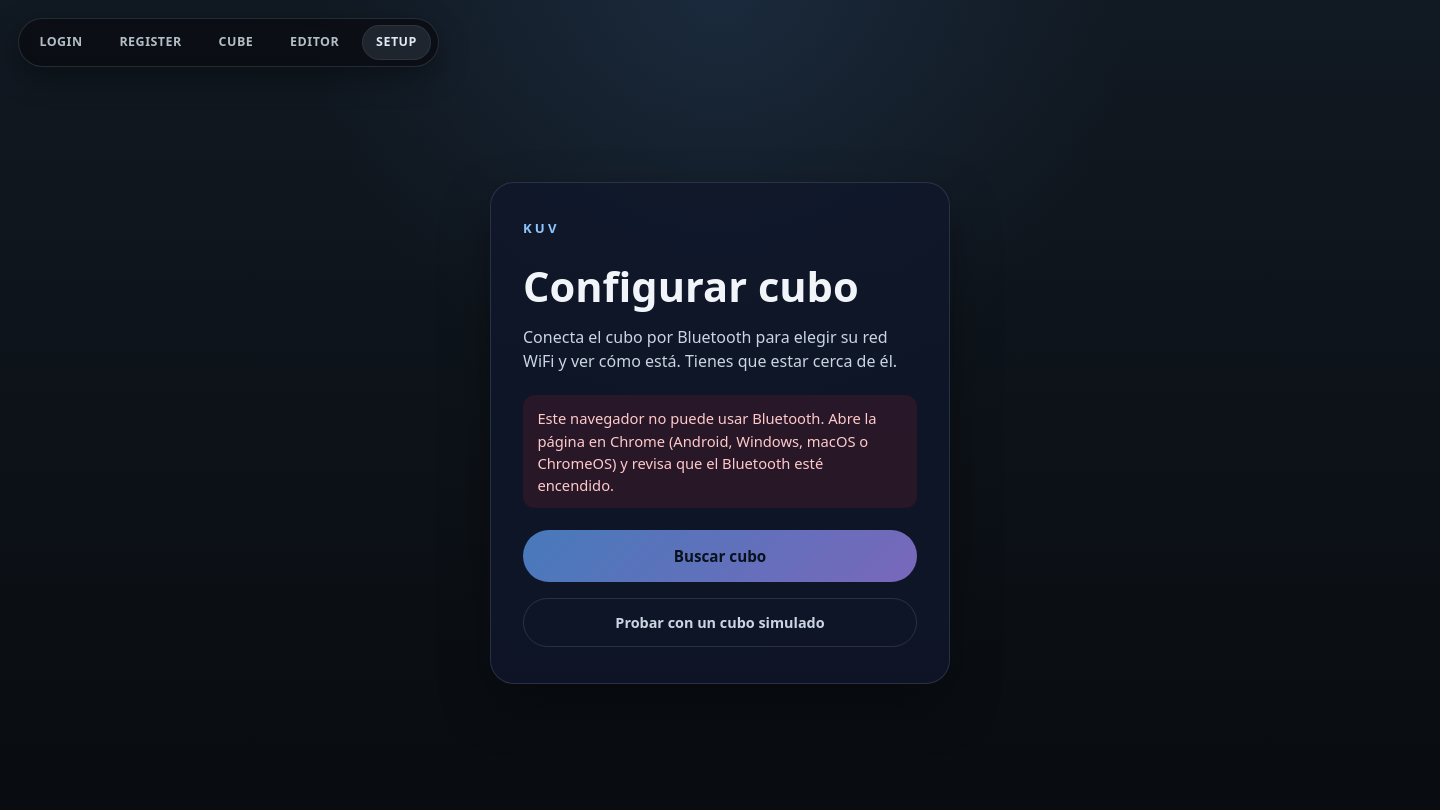
Test: SetupPage with the simulated cube › goes back to the start when the cube reboots
The width and height of the screenshot is (1440, 810).
Click the button "Probar con un cubo simulado": click(720, 622) [523,598,917,647]
Wait 300 ms
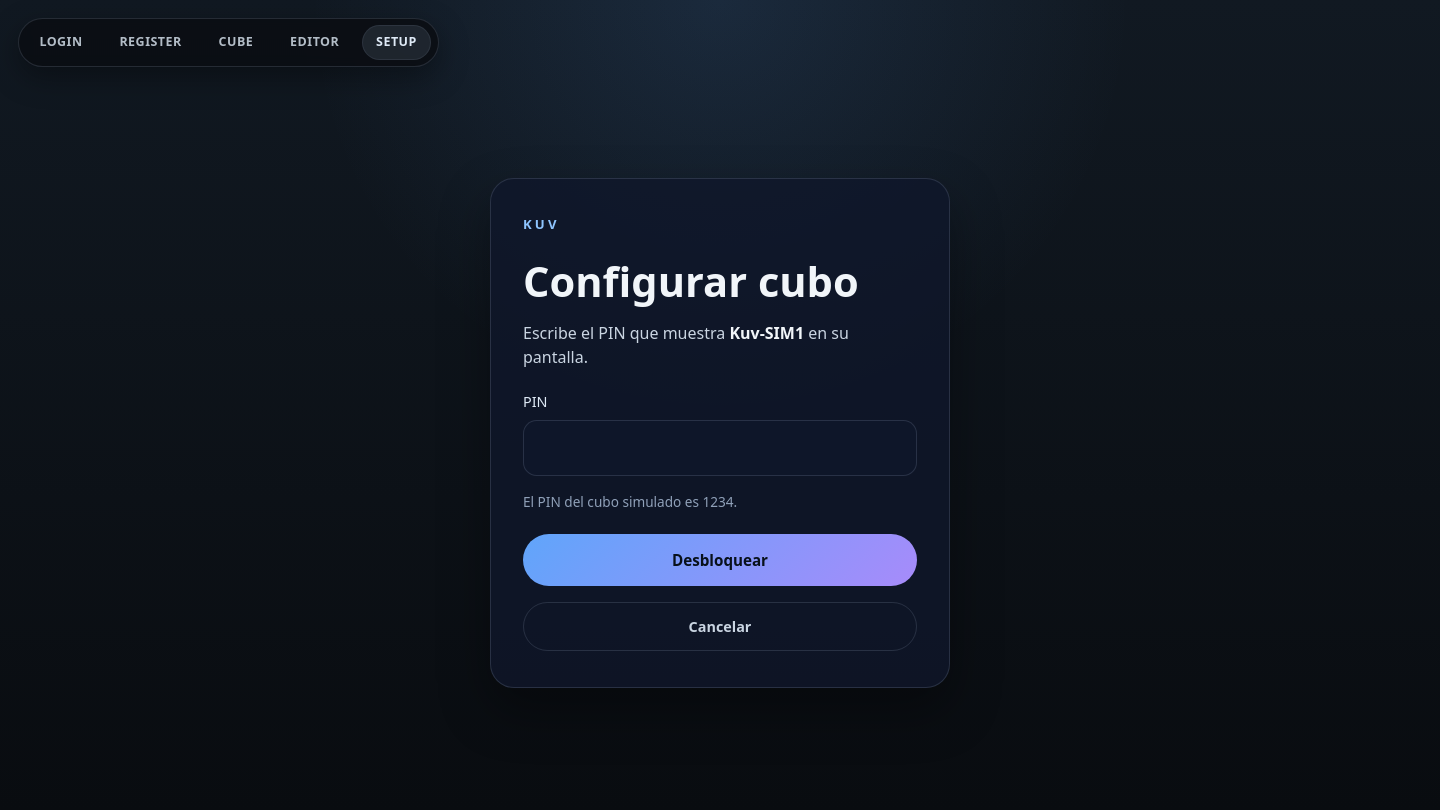
In the field named "pin": (720, 448) [523,420,917,476], type "1234"
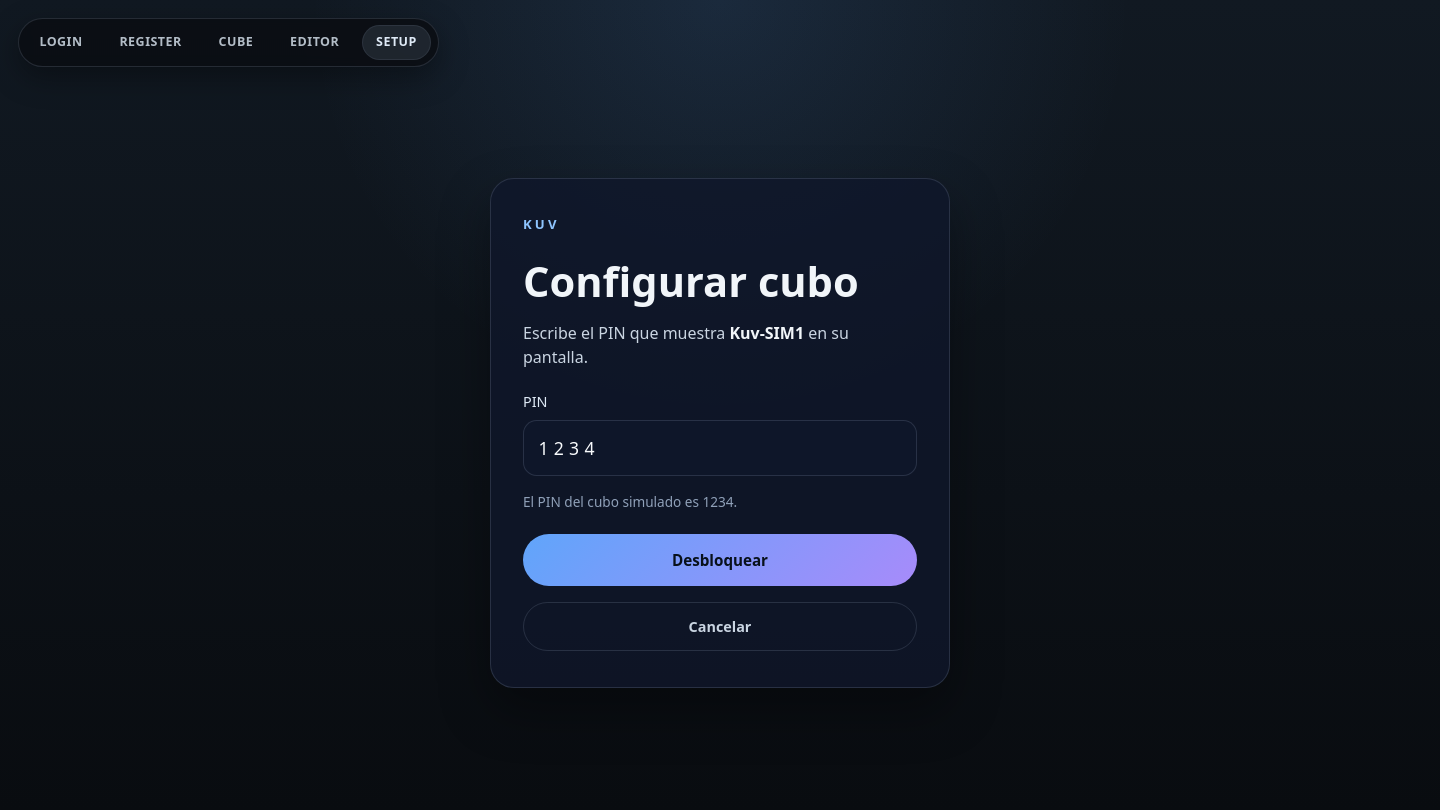
Click the button "Desbloquear": click(720, 560) [523,534,917,586]
Wait 1000 ms
(page scrolled)
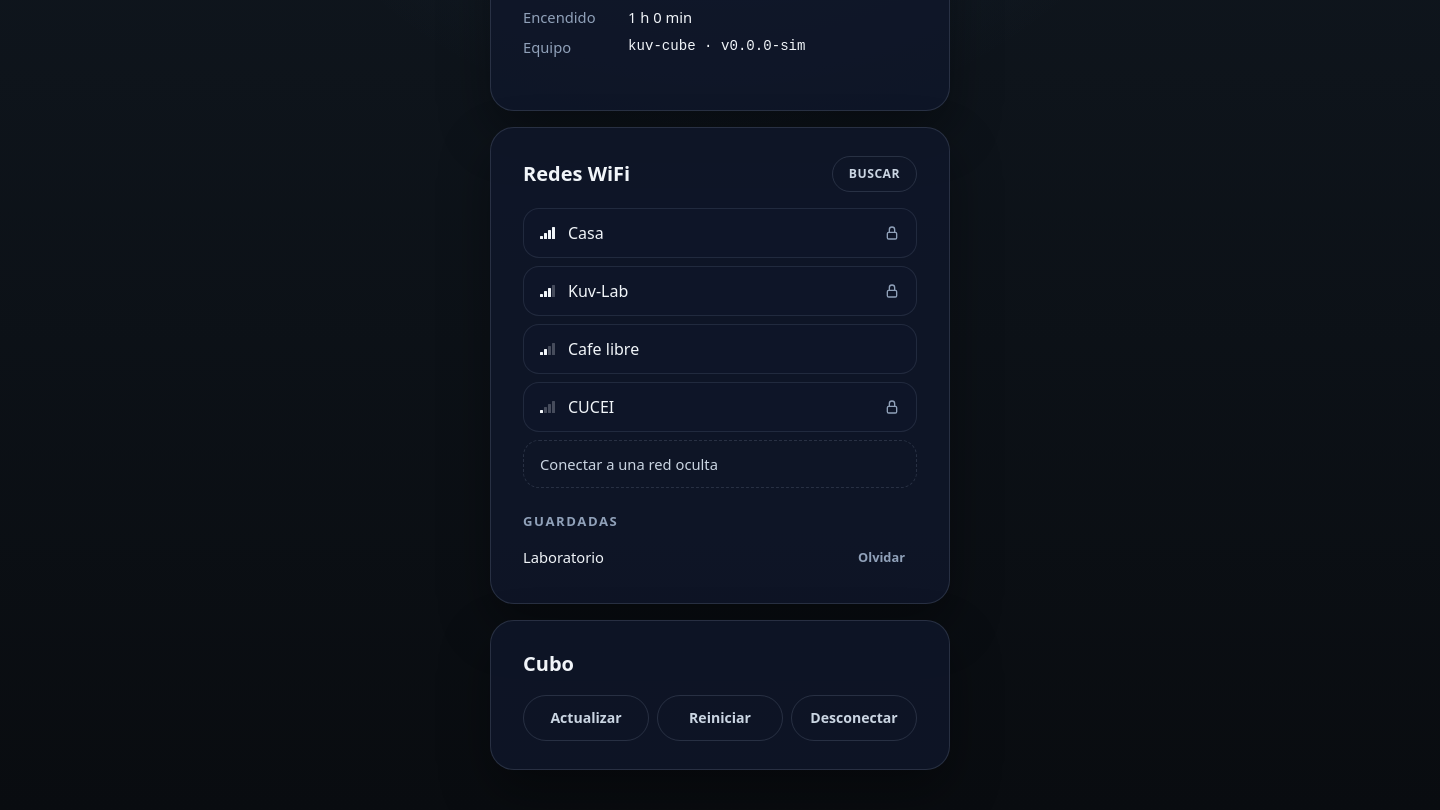
Click the button "Reiniciar": click(720, 718) [657,695,783,741]
Wait 1000 ms
(page scrolled)
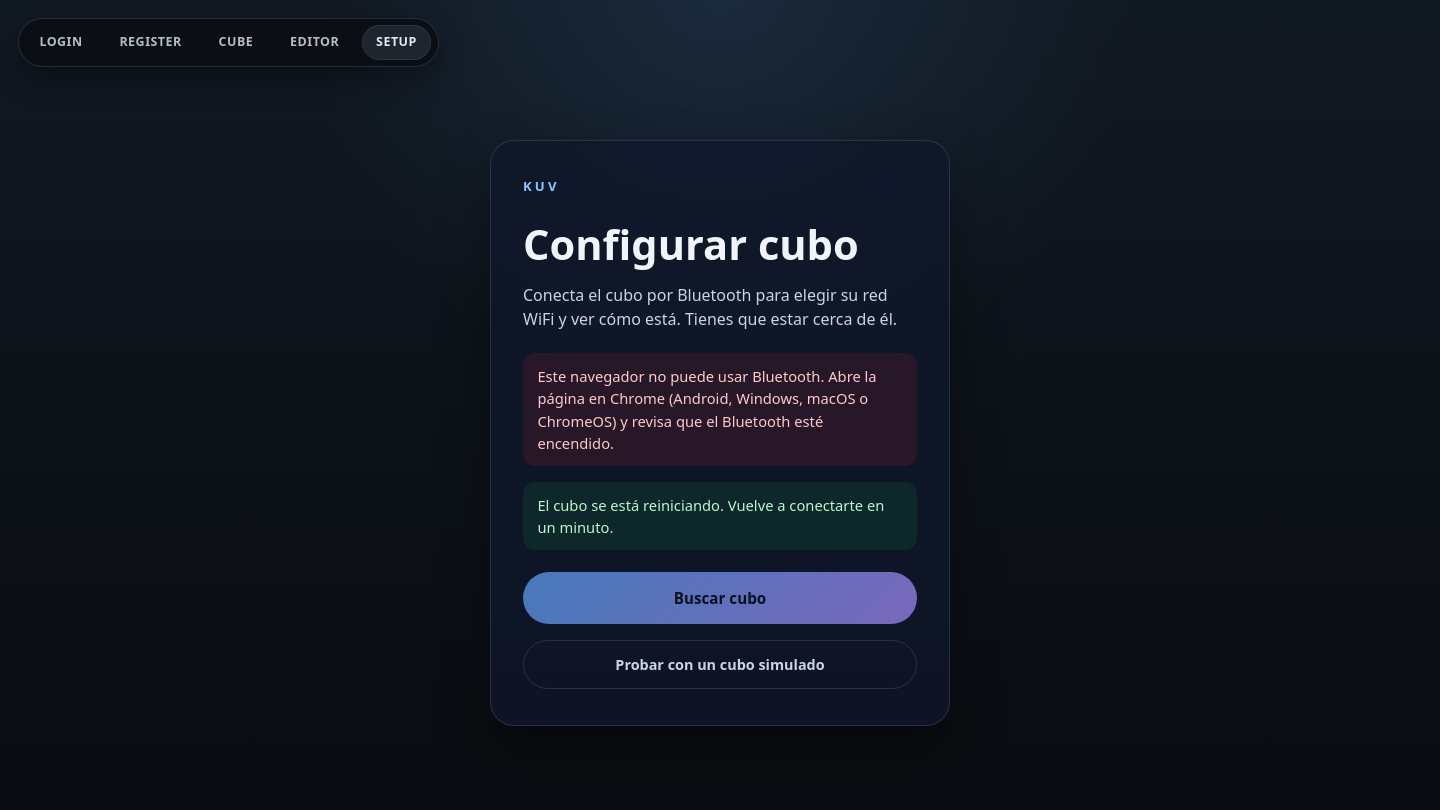
expect the text "El cubo se está reiniciando." is shown: met, box [537,495,884,537]
